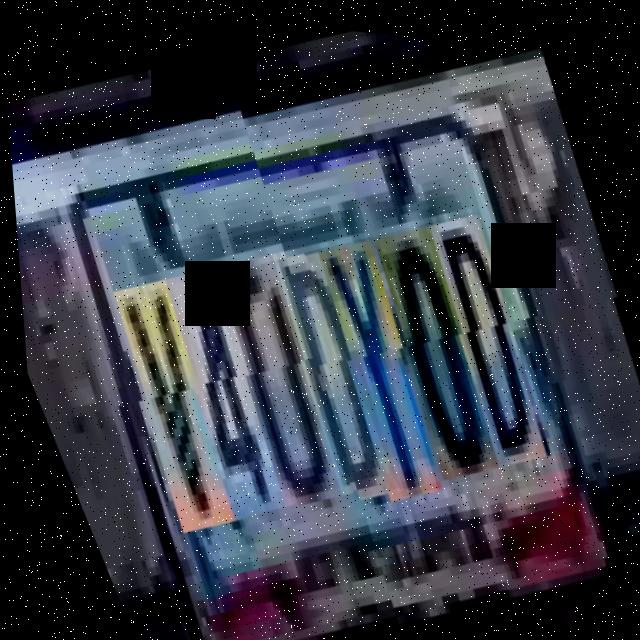0: (200, 249, 368, 513)
4: (148, 263, 312, 527)
D: (256, 235, 419, 498), (411, 196, 570, 457)
O: (355, 208, 523, 473)
V: (96, 277, 260, 540)
Y: (299, 225, 466, 495)
